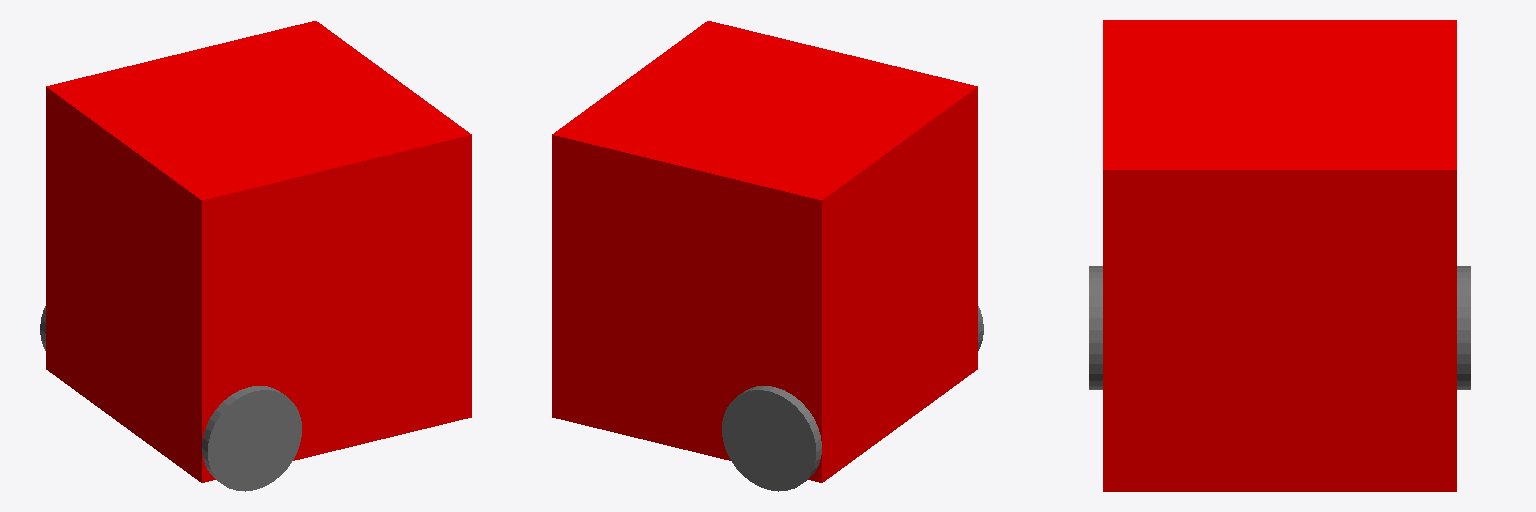
URDF robot description (multi_wheel_control_robot):
<?xml version="1.0"?>
<!-- multi_wheel_control.urdf -->
<robot name="multi_wheel_control_robot">

  <!-- ホイールのリンク -->
  <link name="left_wheel">
    <visual>
      <!-- ホイールの外観 -->
      <geometry>
        <cylinder length="0.03" radius="0.07"/>
      </geometry>
      <material name="grey">
        <color rgba="0.5 0.5 0.5 1"/>
      </material>
    </visual>
  </link>

  <link name="right_wheel">
    <visual>
      <geometry>
        <cylinder length="0.03" radius="0.07"/>
      </geometry>
      <material name="grey">
        <color rgba="0.5 0.5 0.5 1"/>
      </material>
    </visual>
  </link>

  <!-- ロボットのベース -->
  <link name="base_link">
    <!-- ロボットの外観 -->
    <visual>
      <geometry>
        <box size="0.4 0.4 0.4"/>
      </geometry>
      <material name="red">
        <color rgba="1 0 0 1"/>
      </material>
    </visual>
  </link>

  <!-- ホイールのジョイント -->
  <joint name="left_wheel_joint" type="continuous">
    <axis xyz="0 0 1"/>
    <parent link="base_link"/>
    <child link="left_wheel"/>
    <origin xyz="-0.13 0.2 -0.15" rpy = "-1.5708 0 0"/>
  </joint>

  <joint name="right_wheel_joint" type="continuous">
    <axis xyz = "0 0 1"/>
    <parent link="base_link"/>
    <child link="right_wheel"/>
    <origin xyz="-0.13 -0.2 -0.15" rpy = "-1.5708 0 0"/>
  </joint>

  <!-- Gazeboプラグインの追加 -->
  <ros2_control name="GazeboSystem" type="system">
    <hardware>
      <plugin>gazebo_ros2_control/GazeboSystem</plugin>
    </hardware>
  </ros2_control>

  <gazebo>
    <plugin filename="libgazebo_ros2_control.so" name="gazebo_ros2_control">
      <robot_param>robot_description</robot_param>
      <robot_param_node>robot_state_publisher</robot_param_node>
    </plugin>
  </gazebo>
</robot>

--- Facts derived from the render (not from the file) ---
3 views of the same robot in one strip: view 1: azimuth 30°, elevation 25°; view 2: azimuth 150°, elevation 25°; view 3: azimuth 270°, elevation 25° (orthographic).
Robot: multi_wheel_control_robot — 3 links, 2 joints (2 continuous); root link base_link; default pose: all joints at 0.
Visible links, largest first — view 1: base_link, right_wheel; view 2: base_link, left_wheel; view 3: base_link, left_wheel, right_wheel.
Link boxes in pixels (x1,y1,x2,y2): base_link: (46, 21, 471, 482); right_wheel: (202, 386, 301, 491); base_link: (552, 21, 977, 482); left_wheel: (722, 386, 821, 491); base_link: (1103, 20, 1456, 491); left_wheel: (1457, 266, 1470, 389); right_wheel: (1089, 266, 1102, 389).
Bounding box of the posed robot: 0.4 × 0.43 × 0.42 m (x, y, z).
Geometry: primitives only (box / cylinder / sphere), no mesh files.
